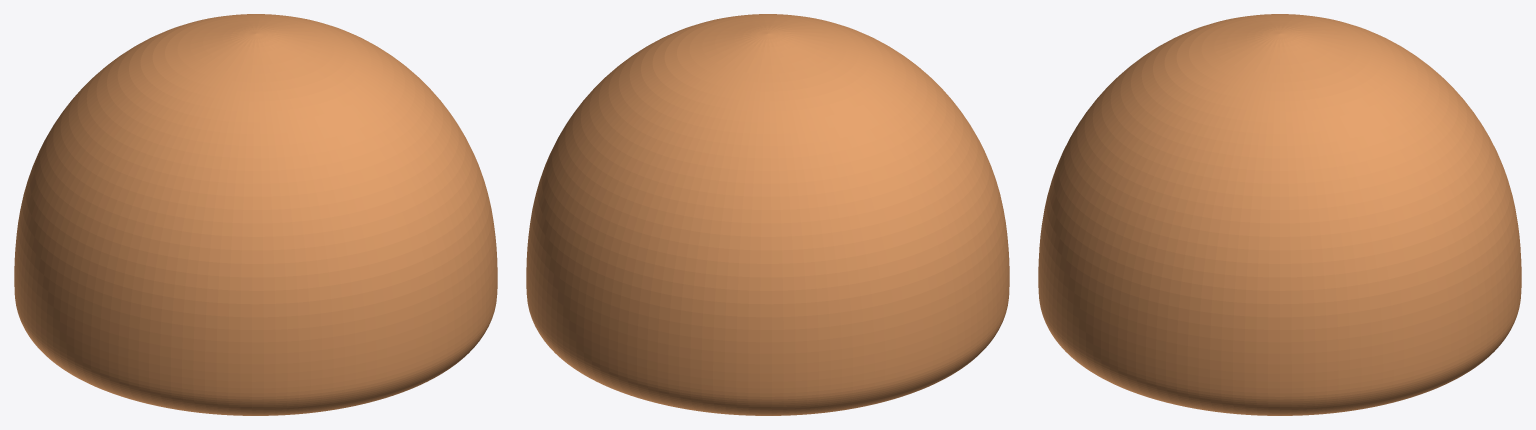
Rendered from Bun.fbx.
The picture shows the model from 3 angles, left to right: view 1: azimuth 30°, elevation 25°; view 2: azimuth 150°, elevation 25°; view 3: azimuth 270°, elevation 25°; orthographic projection.
Parts seen in each view (by area): view 1: Bun; view 2: Bun; view 3: Bun.
Boxes of the visible parts, x1,y1,x2,y2 form: Bun: (14,14,497,415); Bun: (526,14,1009,415); Bun: (1038,14,1521,415).
Bounding box in the file's own units: 23.84 × 15.99 × 23.84.
